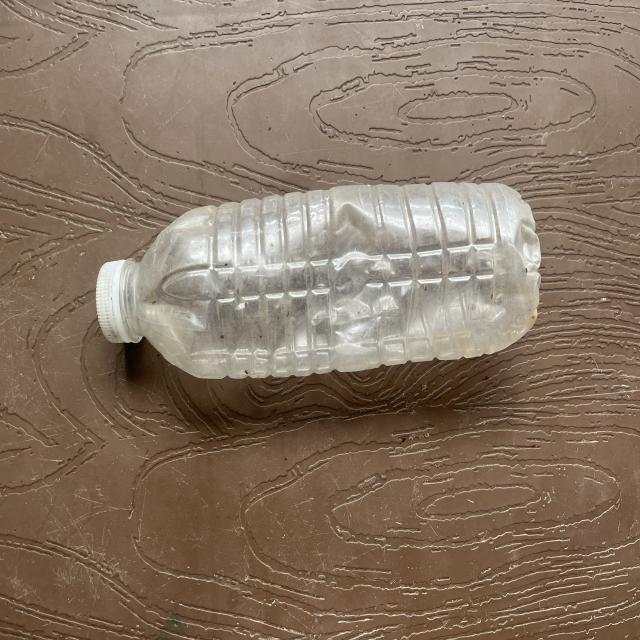REJECT: (100, 182, 510, 384)
